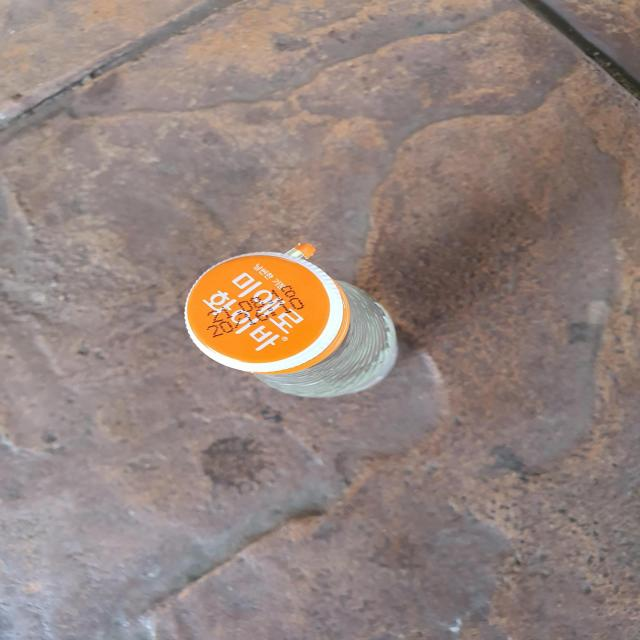glass: (184, 245, 398, 398)
